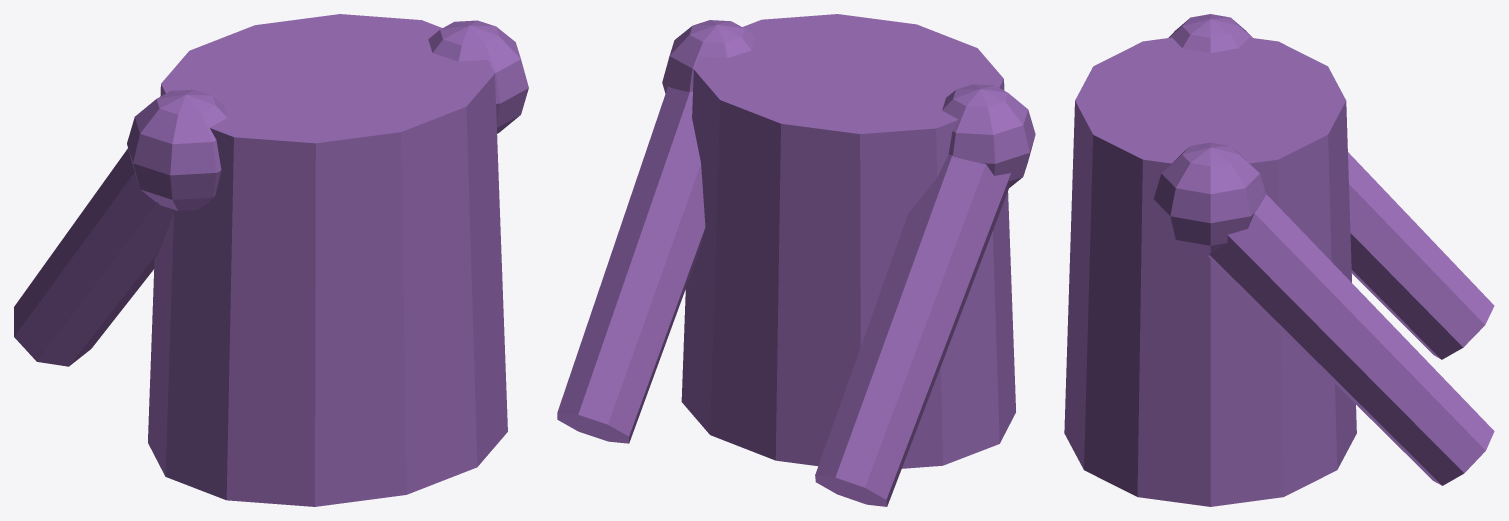
File: customer_body_whole.glb
The picture shows the model from 3 angles, left to right: view 1: azimuth 30°, elevation 25°; view 2: azimuth 150°, elevation 25°; view 3: azimuth 270°, elevation 25°; orthographic projection. The views are drawn at different scales.
Visible parts, largest first — view 1: customer_body_whole_0; view 2: customer_body_whole_0; view 3: customer_body_whole_0.
Boxes of the visible parts, x1,y1,x2,y2 form: customer_body_whole_0: (14,14,528,506); customer_body_whole_0: (557,14,1035,506); customer_body_whole_0: (1064,14,1494,506).
Bounding box in the file's own units: 0.66 × 0.61 × 0.6794.
